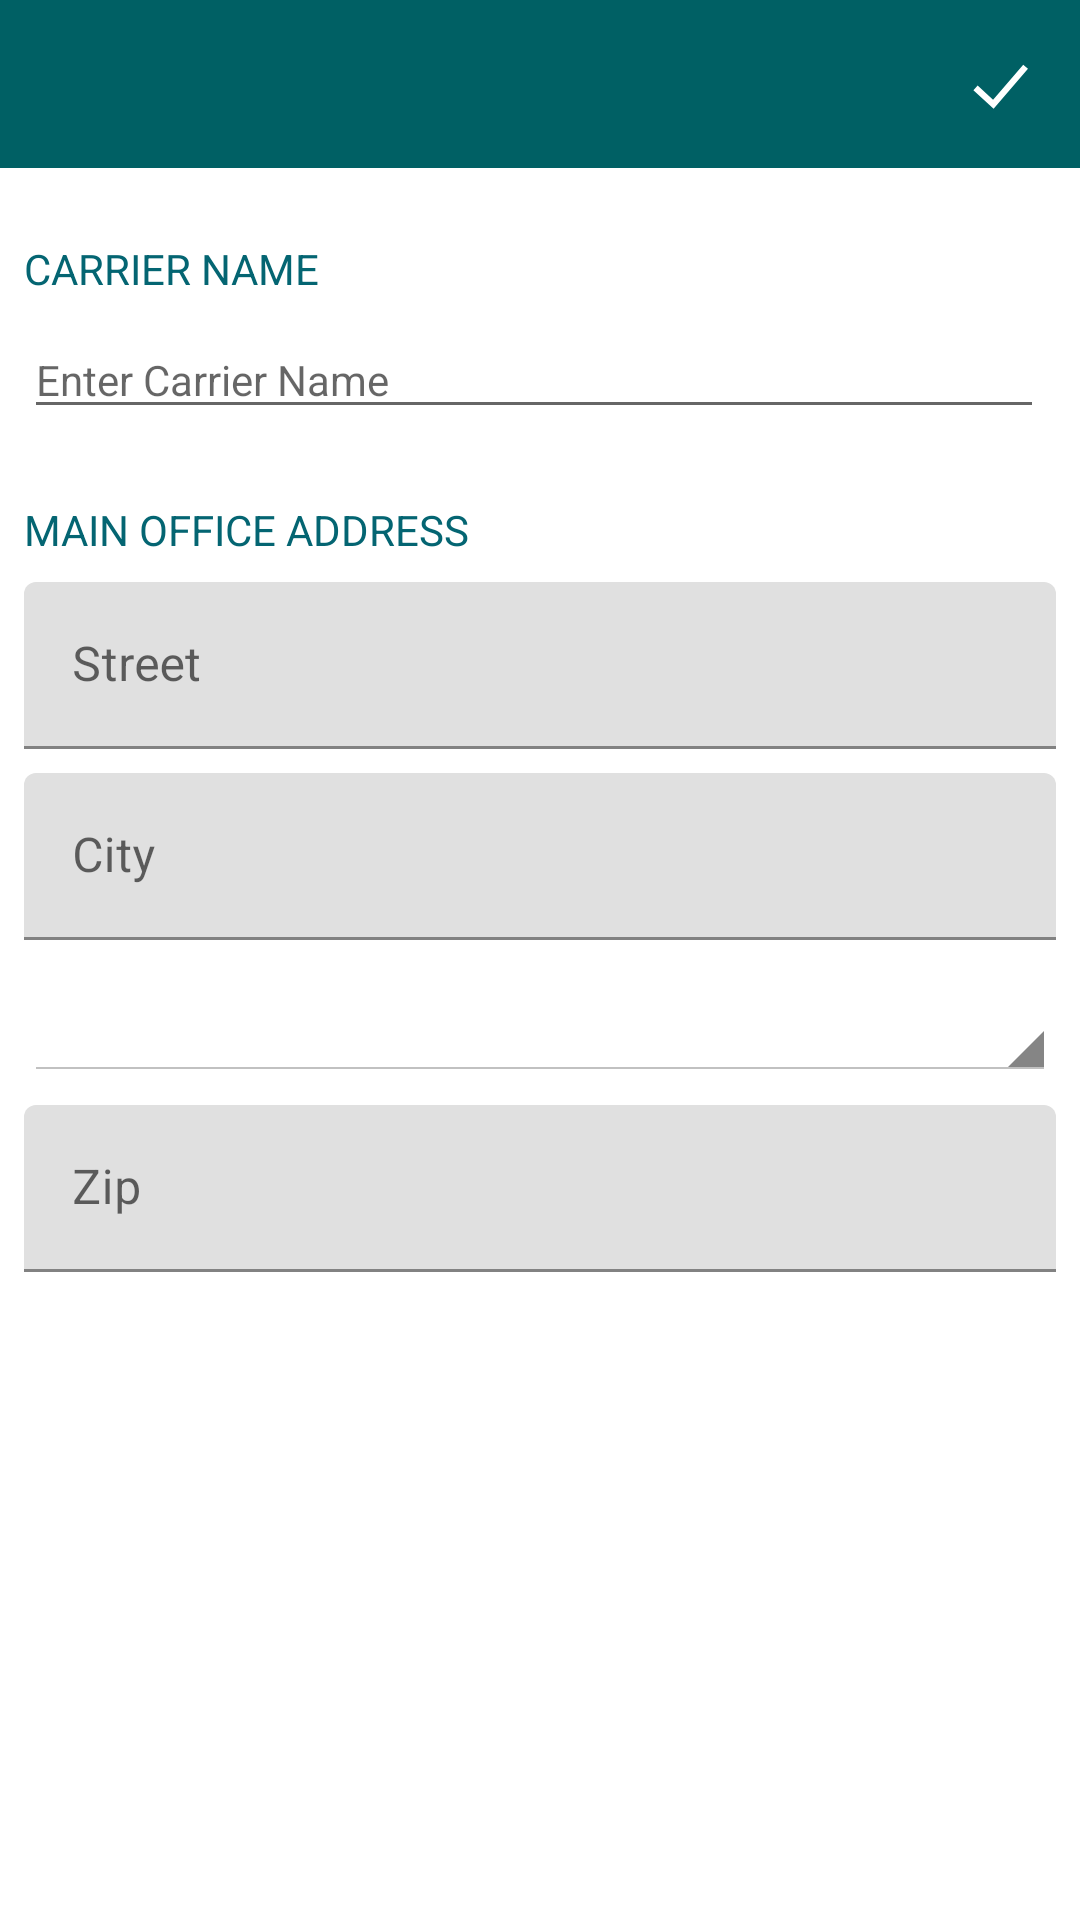

Named icons in this screenshot (1080×1920) and their bounding boxes, (x1, y1, x2, y2):
tick: (973, 65, 1028, 109)
